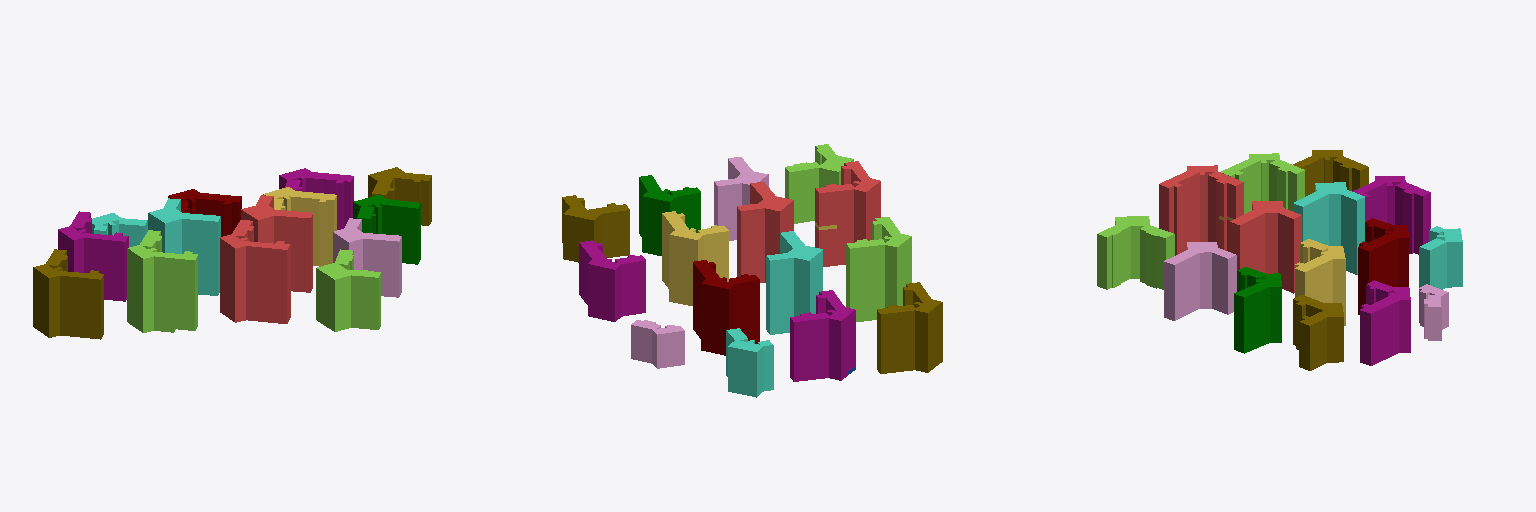
File: danji_only.obj
The picture shows the model from 3 angles: view 1: azimuth 30°, elevation 25°; view 2: azimuth 150°, elevation 25°; view 3: azimuth 270°, elevation 25°; orthographic projection.
Visible parts, largest first — view 1: 108, 112, 115, 104, 111, 114, 107, 103, 102, 106, 101, 105 (+2 smaller); view 2: 112, 115, 114, 110, 108, 111, 105, 106, 107, 101, 102, 113 (+3 smaller); view 3: 108, 103, 107, 104, 111, 105, 102, 114, 101, 110, 112, 106 (+3 smaller).
Part boxes in pixels (x1,y1,x2,y2): 108: (220,220,290,323); 112: (127,230,197,332); 115: (33,249,103,339); 104: (316,249,380,331); 111: (148,198,220,295); 114: (58,211,128,301); 107: (241,195,312,292); 103: (333,218,401,297); 102: (353,195,420,264); 106: (263,187,336,266); 101: (368,167,431,225); 105: (279,168,353,229); 112: (846,217,911,321); 115: (877,282,942,373); 114: (790,290,855,381); 110: (693,260,759,355); 108: (815,161,880,266); 111: (766,231,822,334); 105: (579,240,645,321); 106: (662,211,728,305); 107: (737,182,793,282); 101: (562,195,629,262); 102: (639,175,700,255); 113: (726,328,773,397); 108: (1159,165,1243,255); 103: (1164,242,1236,320); 107: (1229,201,1301,293); 104: (1097,216,1174,289); 111: (1293,182,1364,274); 105: (1360,280,1410,365); 102: (1234,267,1281,353); 114: (1352,176,1430,254); 101: (1293,295,1343,370); 110: (1358,218,1408,314); 112: (1221,153,1304,213); 106: (1295,239,1345,325).
Bounding box in the file's own units: 310 × 89.23 × 257.